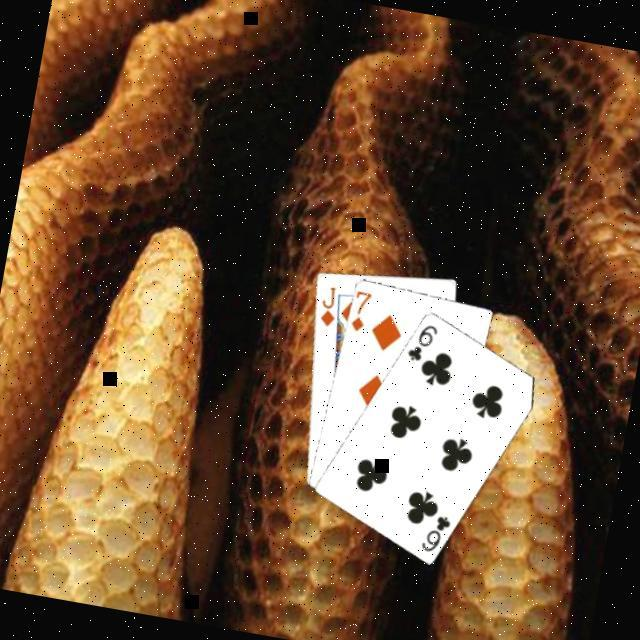6C: (404, 319, 443, 368), (418, 510, 456, 559)
7D: (348, 288, 376, 337)
JD: (315, 284, 344, 333)
